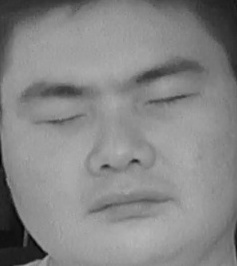blink: (145, 82, 197, 117), (37, 102, 88, 134)
mouth: (85, 180, 173, 226)
